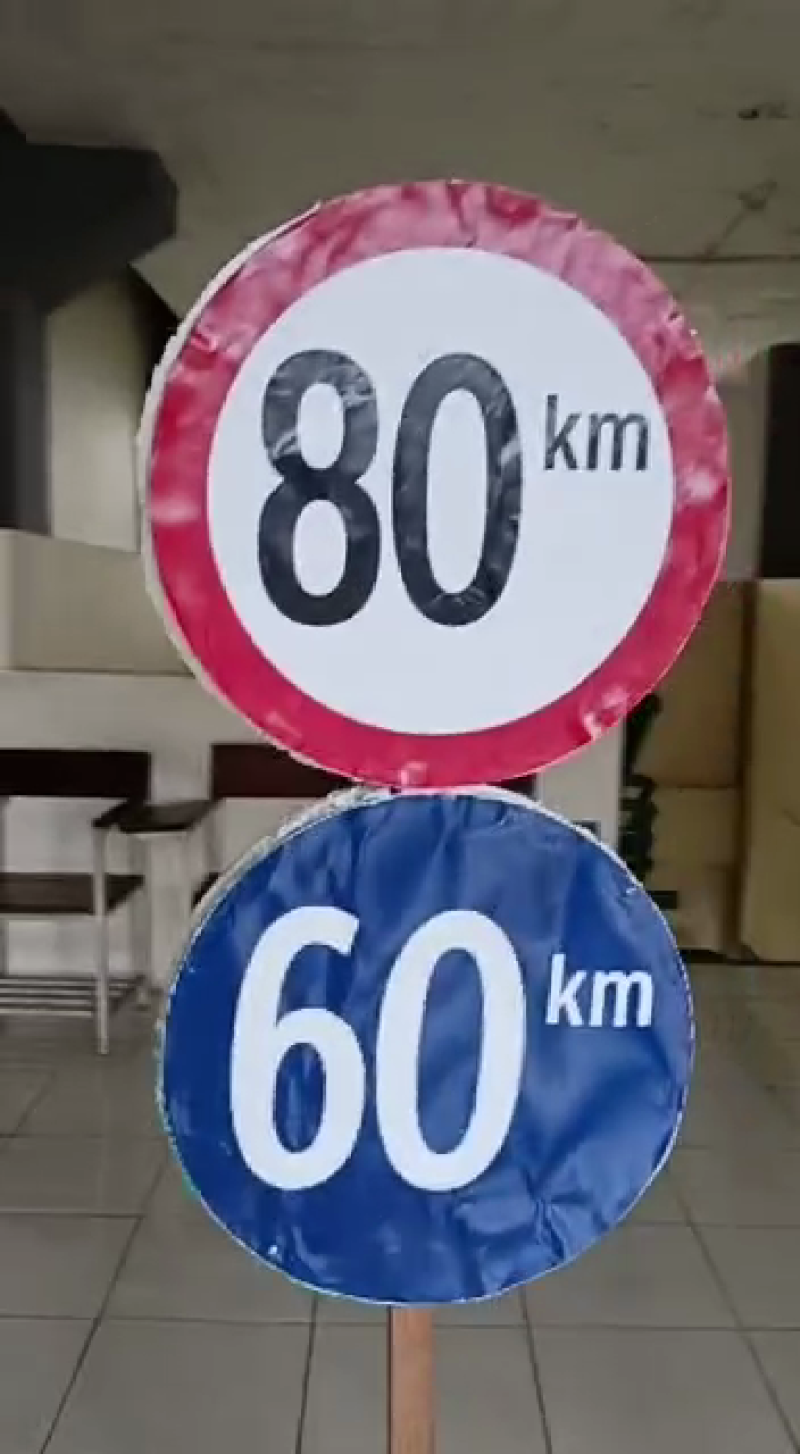batas maksimal 80kmperjam minimal 60kmperjam: (133, 160, 740, 1322)
